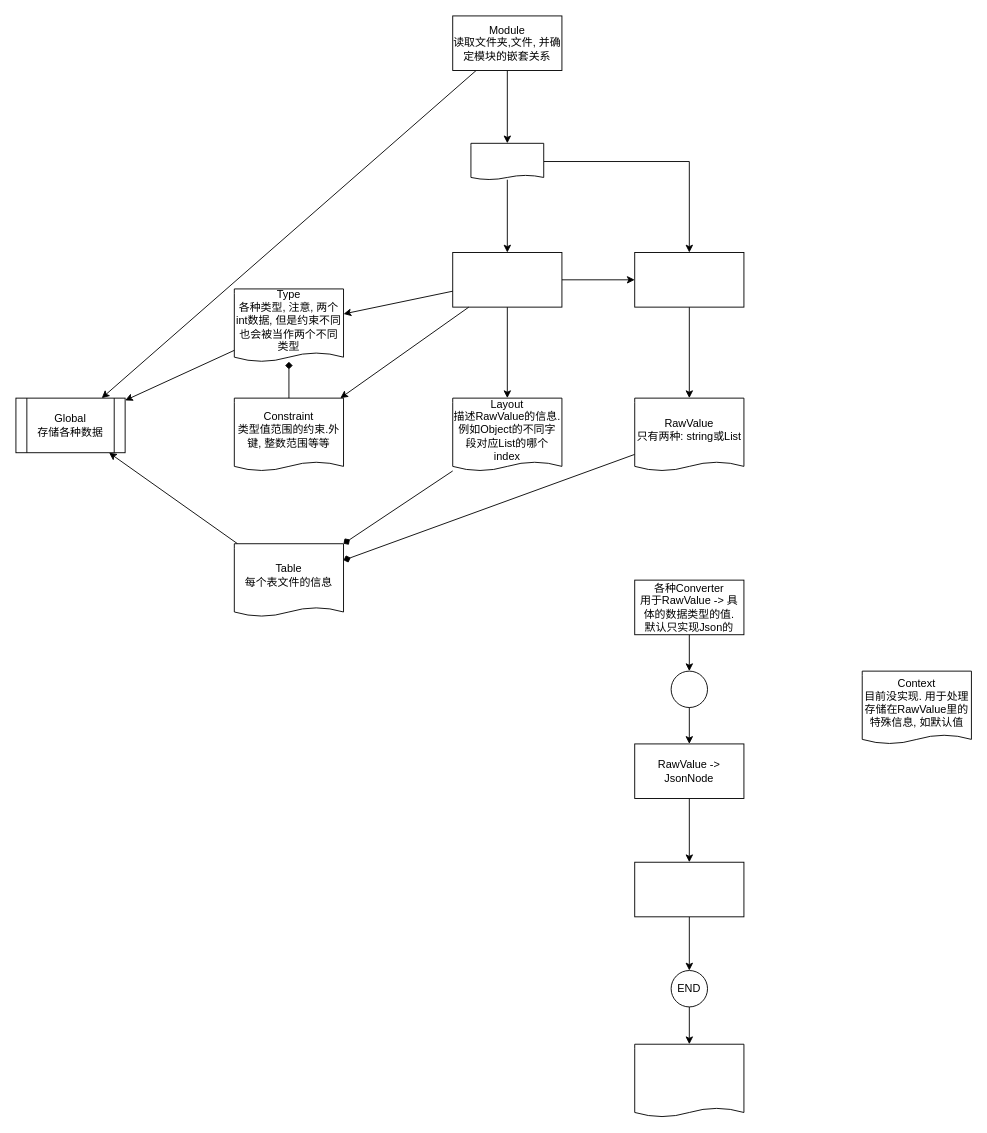
This 987x1133 diagram has some shape labels left out. Each missing label, with the centre of its shape:
File: the point at 507,161
Format 用于解析数据: the point at 689,279
Head 用于解析表头, 产生后续所需的所有信息: the point at 507,279
JsonNode (容易序列化为string, 有C#提供的函数): the point at 689,1080
约束检查: the point at 689,889
过程: the point at 689,689
